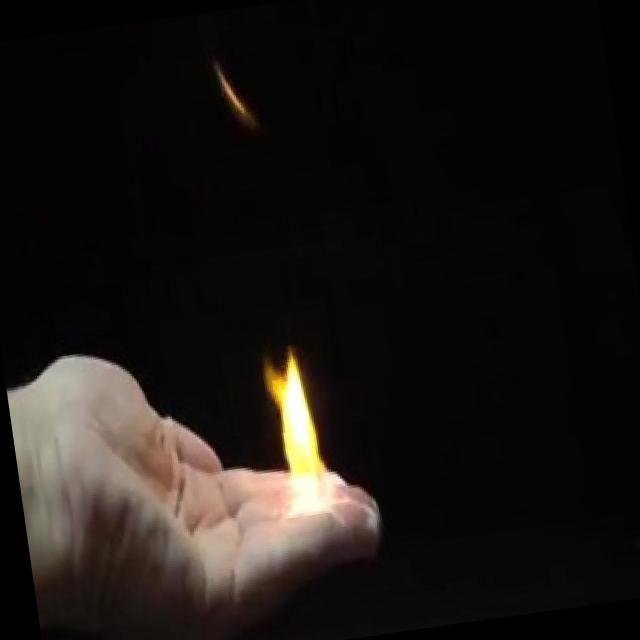Fire: (254, 336, 340, 522)
